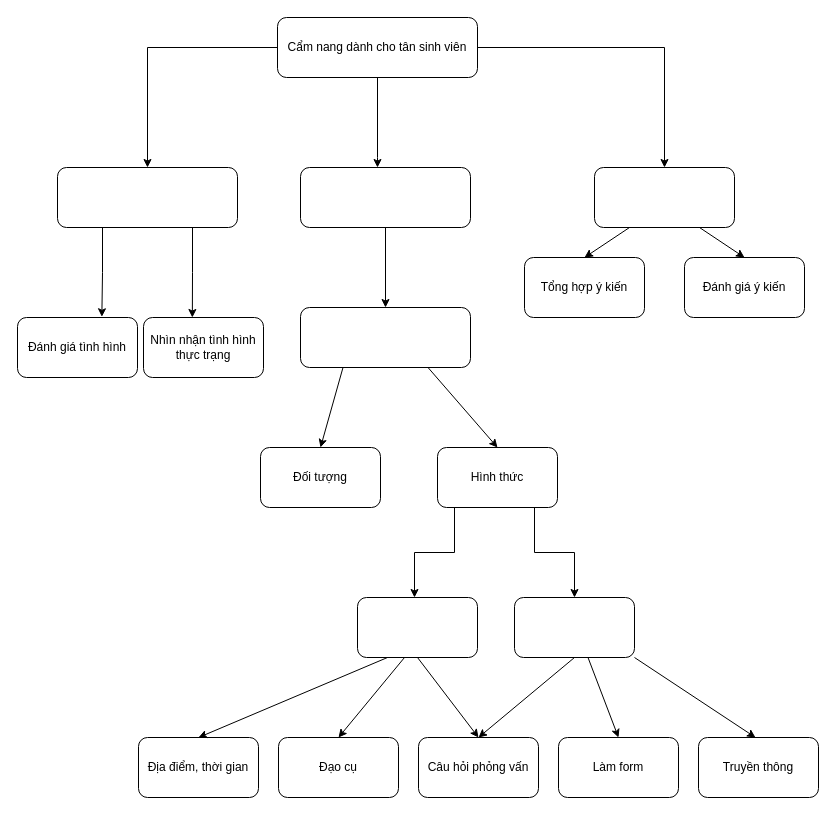
This 836x815 diagram has some shape labels left out. Each missing label, with the centre of its shape:
"Khảo sát" belongs at (x=385, y=337).
"Nắm bắt tình hình cuộc sống sinh hoạt hiện tại của tân sinh viên" belongs at (x=147, y=197).
"Offline" belongs at (x=417, y=627).
"Online" belongs at (x=574, y=627).
"Thu thập ý kiến" belongs at (x=385, y=197).
"Đúc kết thành cẩm nang" belongs at (x=664, y=197).
